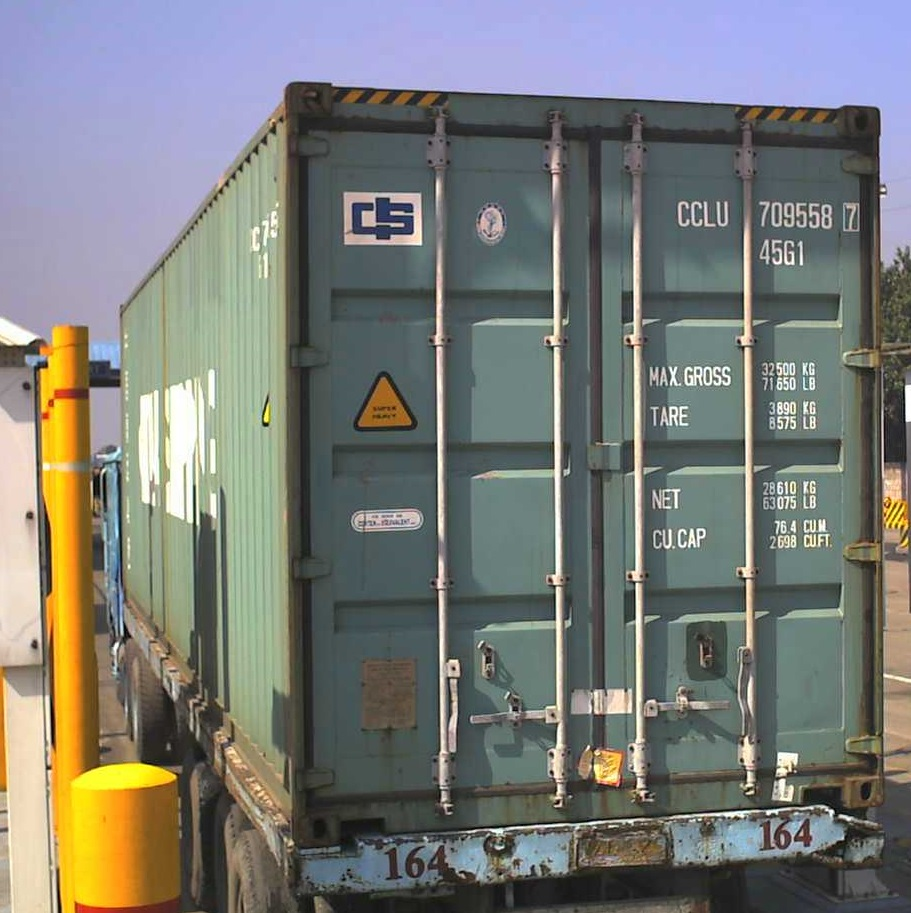container_door: (285, 79, 885, 842)
